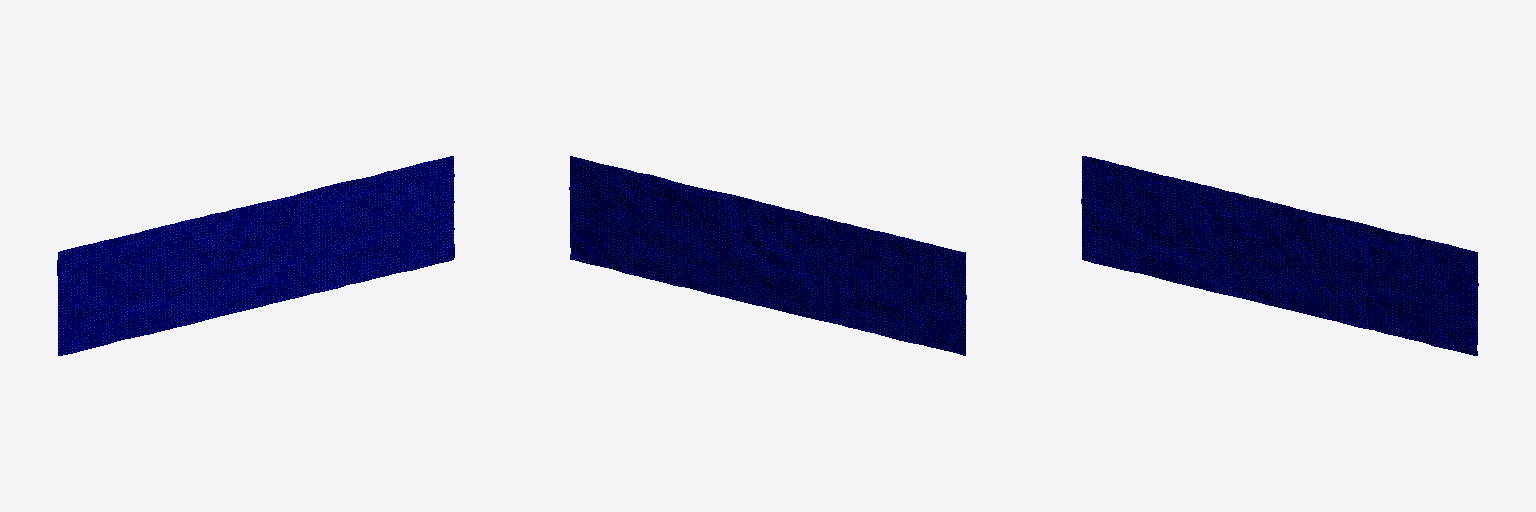
3 renders of one model, left to right at view 1: azimuth 30°, elevation 25°; view 2: azimuth 150°, elevation 25°; view 3: azimuth 330°, elevation 25°, orthographic.
Visible parts, largest first — view 1: seawall; view 2: seawall; view 3: seawall.
Part boxes in pixels (x1,y1,x2,y2): seawall: (57, 156, 454, 355); seawall: (569, 156, 966, 355); seawall: (1081, 156, 1478, 355).
Size of the model in its own units: 400 by 100 by 4.98.
Materials: 1 (1 with a texture image).